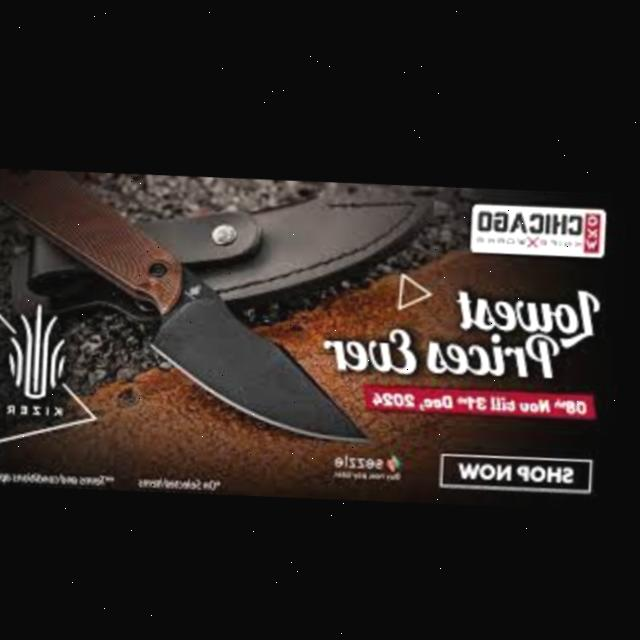knife: (0, 161, 399, 446)
